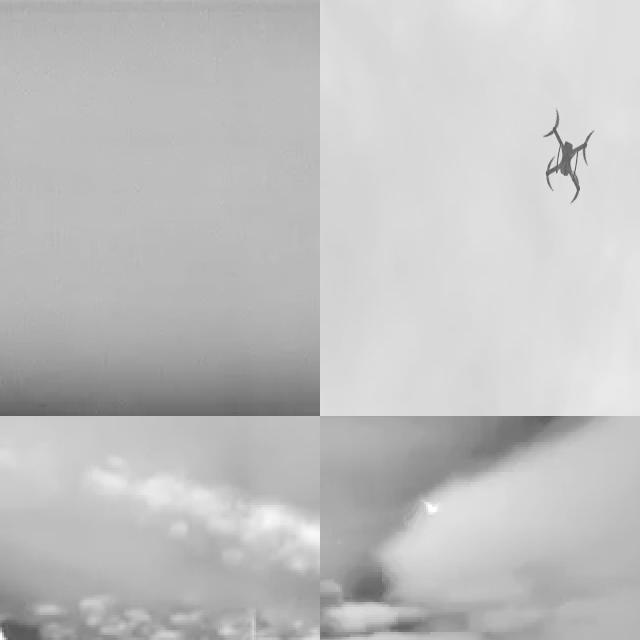0: (414, 494, 448, 522)
drone: (536, 102, 597, 214)
